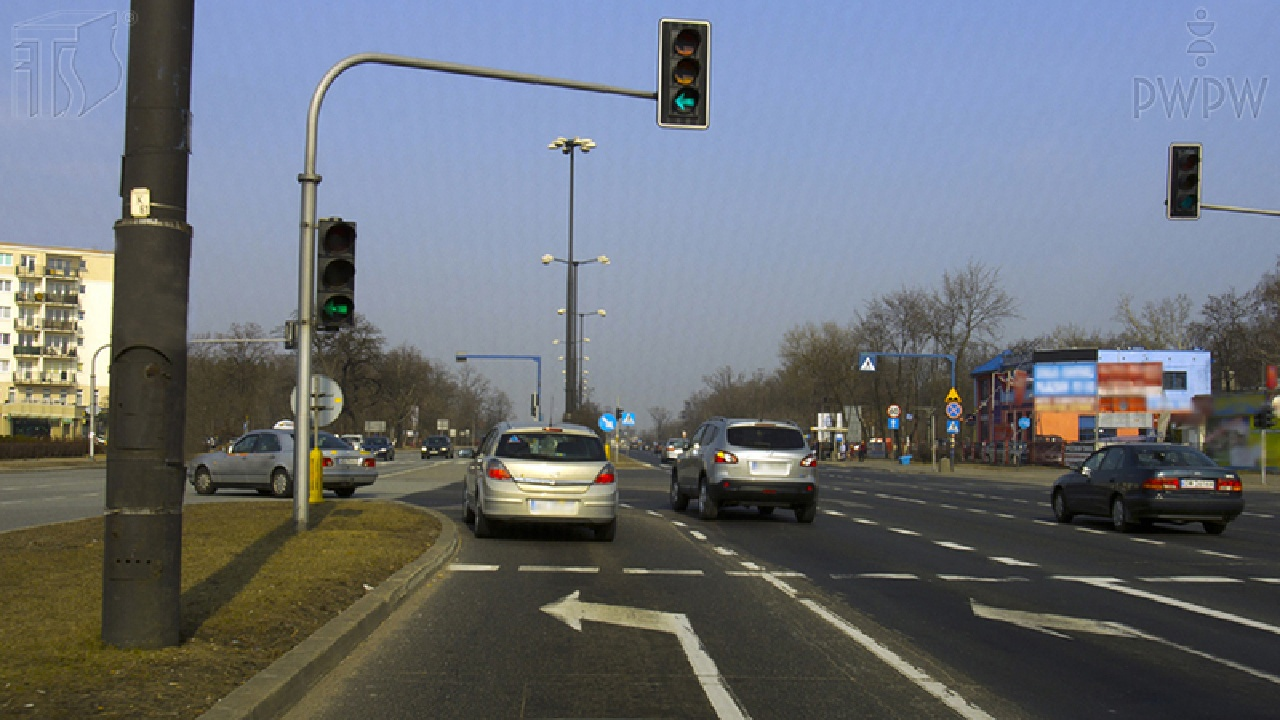Green: (658, 19, 707, 129), (315, 218, 355, 329)
